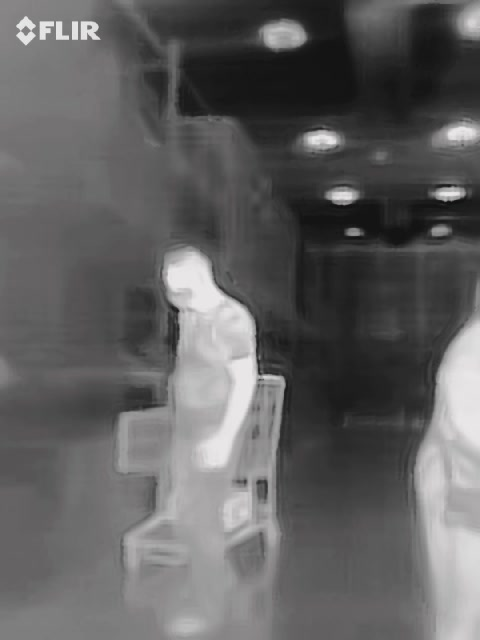head: (159, 244, 214, 311)
